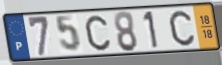1: (142, 9, 160, 51)
5: (53, 14, 84, 56)
7: (26, 16, 51, 58)
8: (112, 10, 139, 54)
C: (168, 9, 197, 48), (83, 14, 112, 53)
